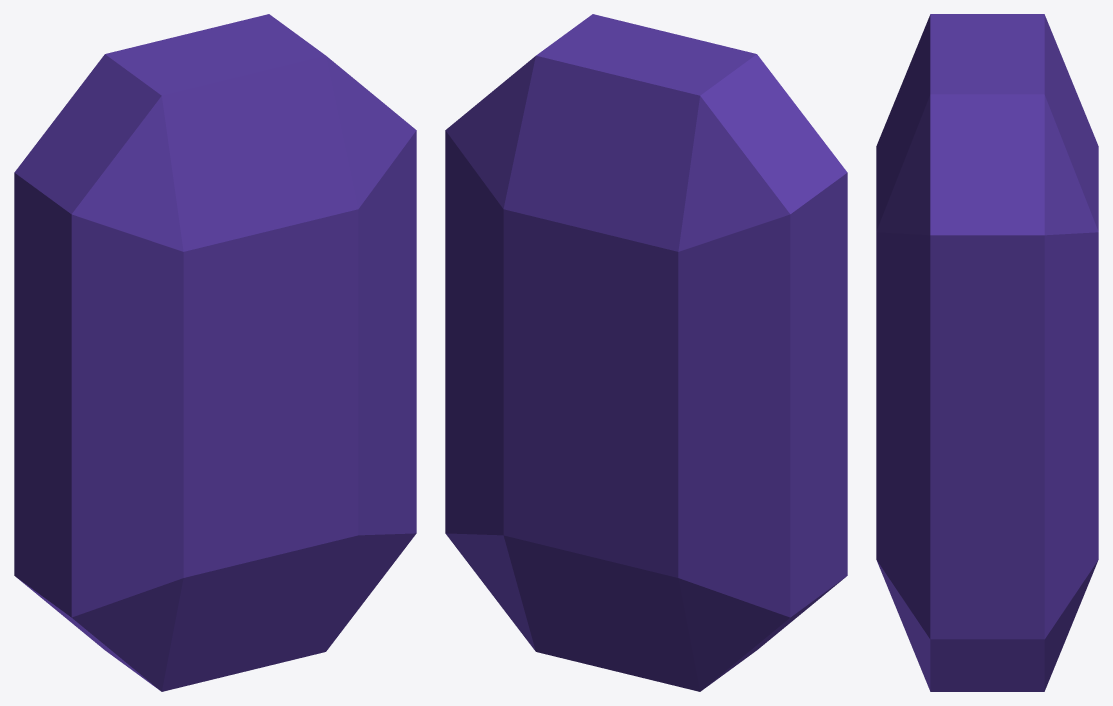
The model's file is Crystal1.glb.
3 renders of one model, left to right at view 1: azimuth 30°, elevation 25°; view 2: azimuth 150°, elevation 25°; view 3: azimuth 270°, elevation 25°, orthographic.
Parts seen in each view (by area): view 1: Crystal1; view 2: Crystal1; view 3: Crystal1.
Boxes of the visible parts, x1=… form: Crystal1: x1=14, y1=14, x2=416, y2=691; Crystal1: x1=445, y1=14, x2=847, y2=691; Crystal1: x1=876, y1=14, x2=1098, y2=691.
Size of the model in its own units: 0.1162 by 0.1918 by 0.0648.
